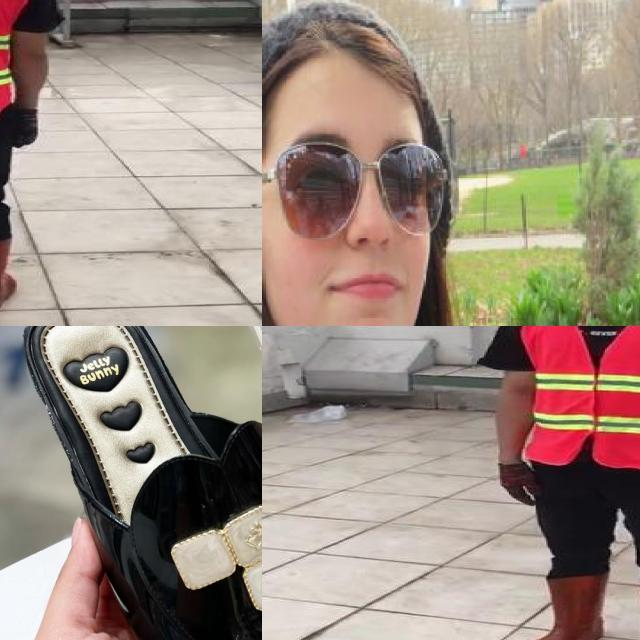Sandals: (0, 326, 262, 640)
boots: (521, 575, 603, 640), (0, 236, 17, 317)
face_nomask: (269, 135, 444, 321)
glasses: (262, 127, 448, 244)
hand_glove: (497, 464, 541, 506), (14, 110, 40, 147)
head_nohelmet: (262, 2, 446, 103)
person: (262, 12, 472, 326), (470, 326, 640, 640), (0, 0, 68, 325)
vest: (523, 326, 640, 469)
